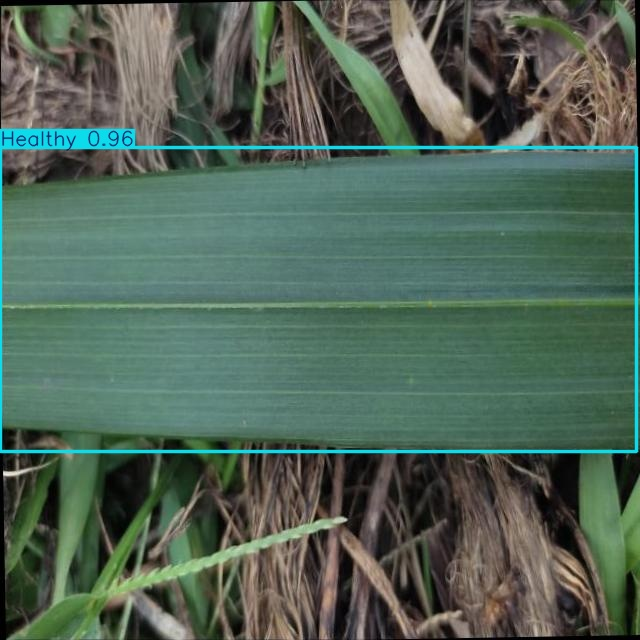Healthy: (0, 148, 637, 452)
